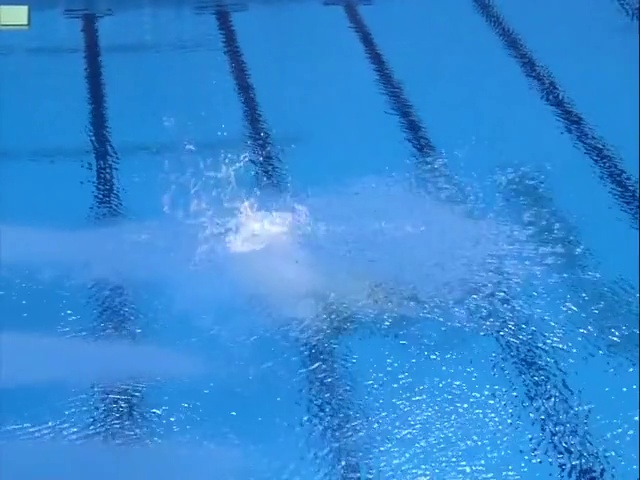splash: (224, 201, 307, 255)
